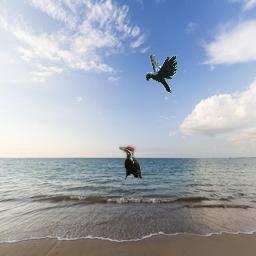Crow: (146, 53, 177, 93)
Woodpecker: (119, 144, 142, 180)
